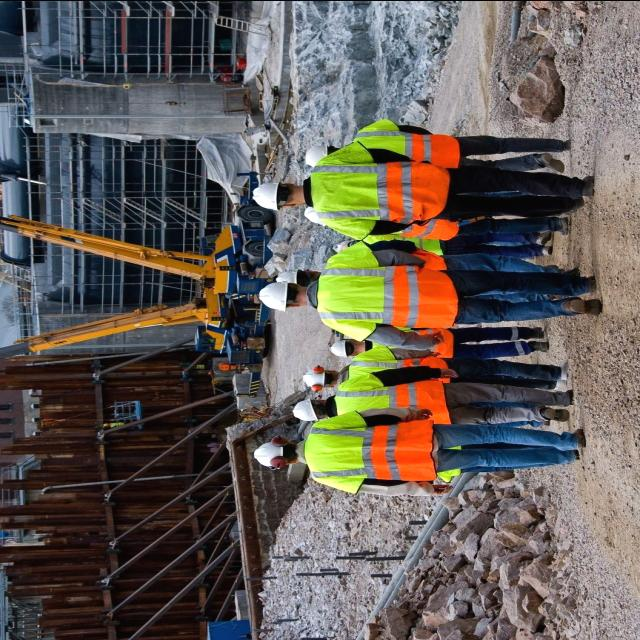Ear Muffs: (266, 436, 288, 470), (310, 365, 322, 393)
Hard Hat: (250, 176, 286, 212), (256, 276, 292, 312), (252, 436, 288, 471), (302, 368, 332, 388)
Reflective Vest: (304, 152, 452, 242), (311, 262, 458, 333), (300, 416, 446, 484), (330, 351, 452, 424), (331, 366, 469, 428), (339, 118, 472, 176), (351, 211, 466, 255), (369, 328, 462, 357)
